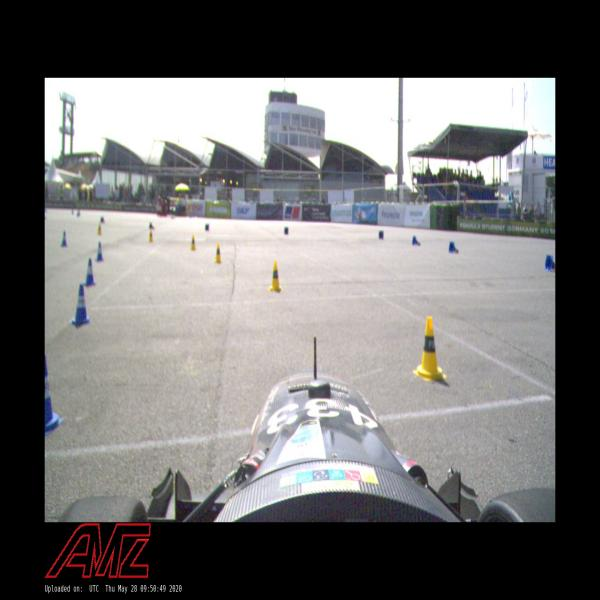blue_cone: (45, 352, 60, 434), (70, 284, 91, 328), (83, 257, 96, 287), (543, 254, 555, 272), (95, 241, 104, 263), (448, 241, 460, 254), (60, 230, 68, 248), (412, 235, 422, 247), (149, 222, 155, 230)
yellow_cone: (415, 315, 445, 383), (269, 261, 282, 292), (213, 242, 222, 263), (189, 234, 196, 250), (148, 230, 154, 244), (97, 222, 102, 236)
